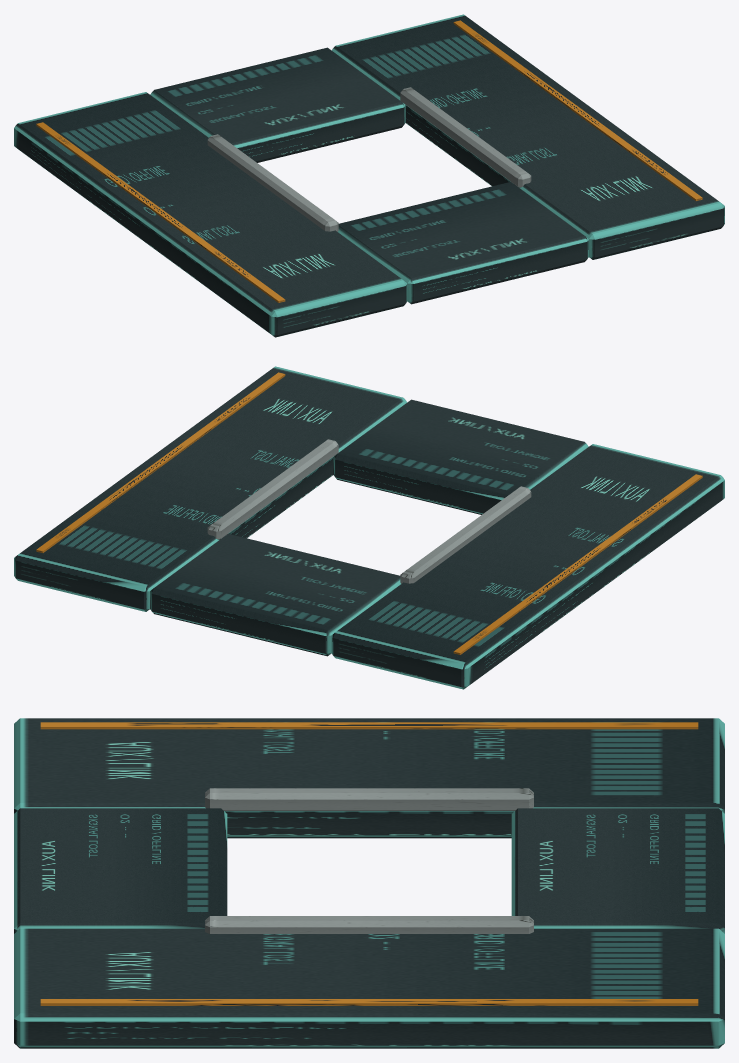
File: roof_skylight_4m_LOD1.obj
3 views of the same model, one above another, from view 1: azimuth 30°, elevation 25°; view 2: azimuth 150°, elevation 25°; view 3: azimuth 270°, elevation 25° (orthographic). The views are drawn at different scales.
Parts seen in each view (by area): view 1: L02_roof_skylight_4m_LOD1; view 2: L02_roof_skylight_4m_LOD1; view 3: L02_roof_skylight_4m_LOD1.
Part boxes in pixels (x1,y1,x2,y2): L02_roof_skylight_4m_LOD1: (14, 14, 724, 337); L02_roof_skylight_4m_LOD1: (14, 366, 724, 689); L02_roof_skylight_4m_LOD1: (14, 718, 724, 1048).
Bounding box in the file's own units: 4 × 0.29 × 4.
Materials: 1 (1 with a texture image).
